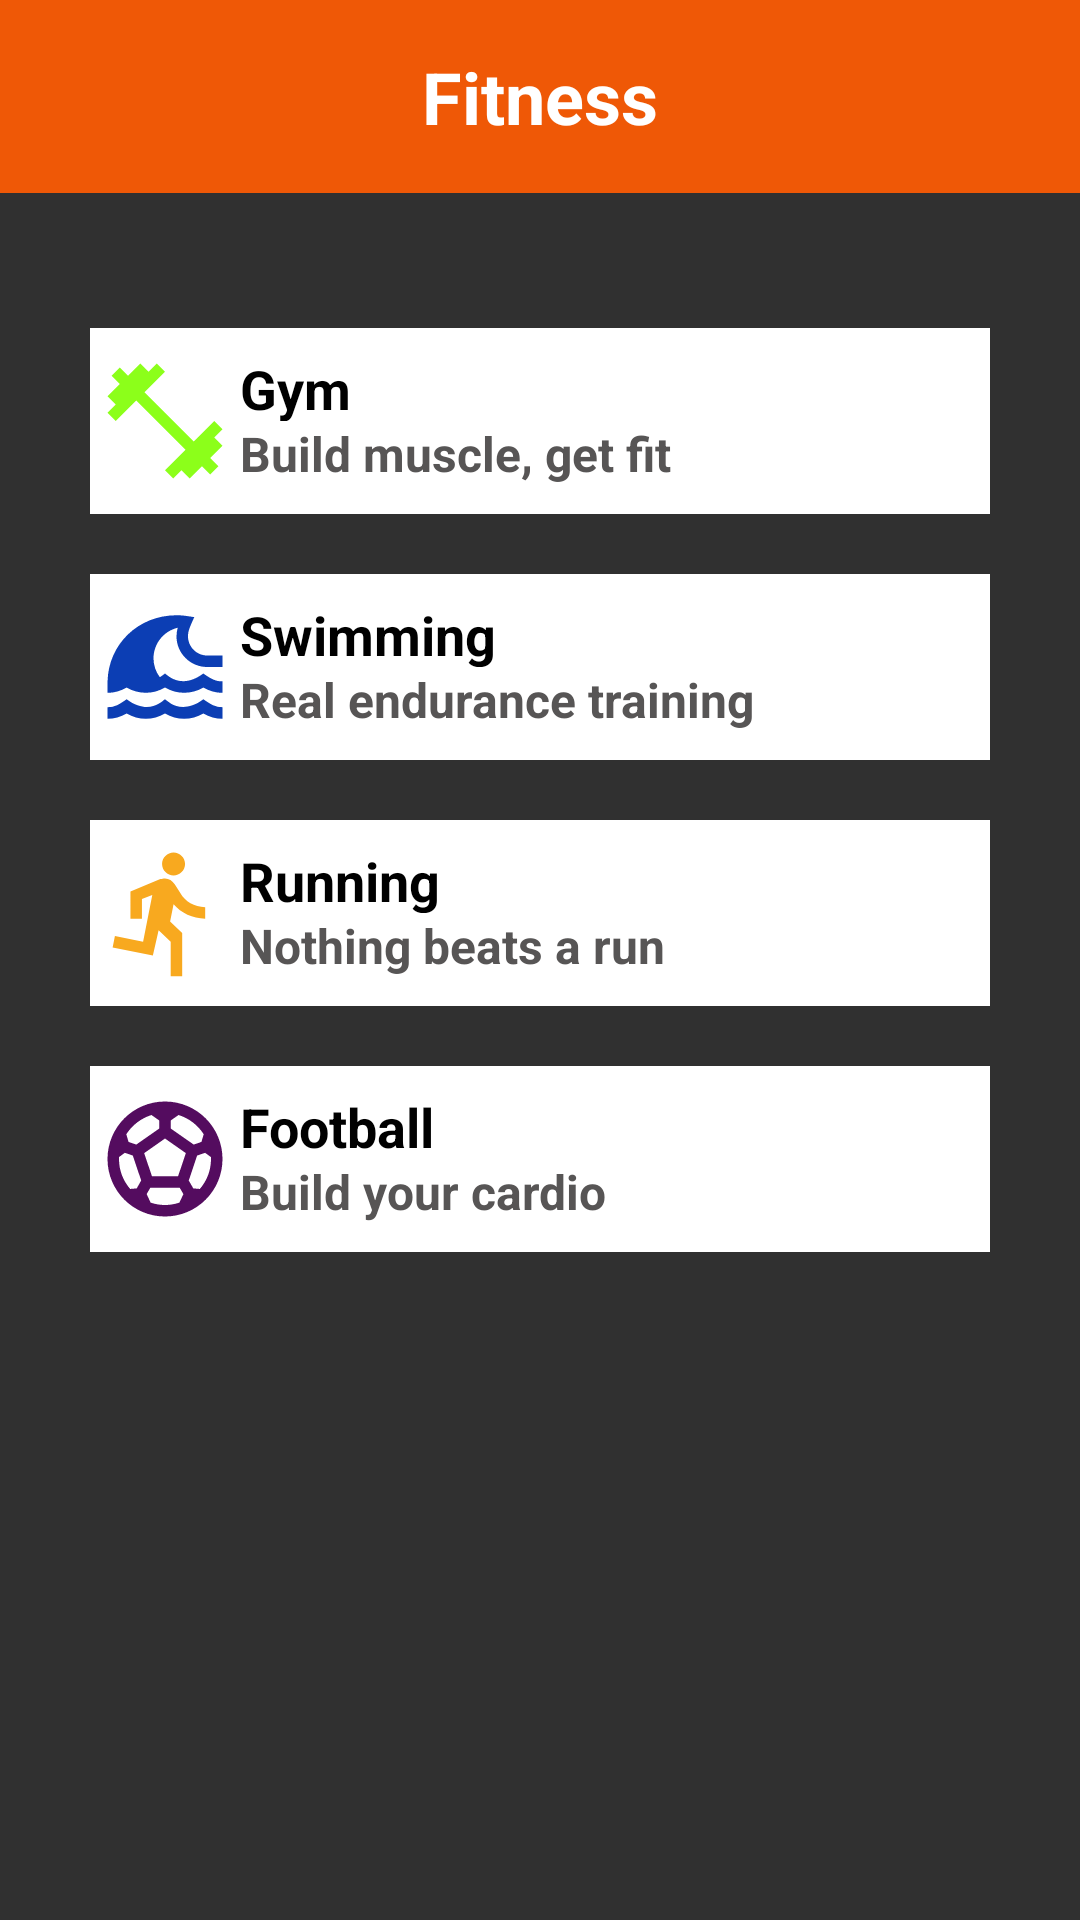

Screen size 1080px×1920px. Icon name, then its box in pixels as (x1, y1, x2, y2):
dumbbell: (107, 363, 223, 479)
sports soccer: (107, 1101, 223, 1217)
